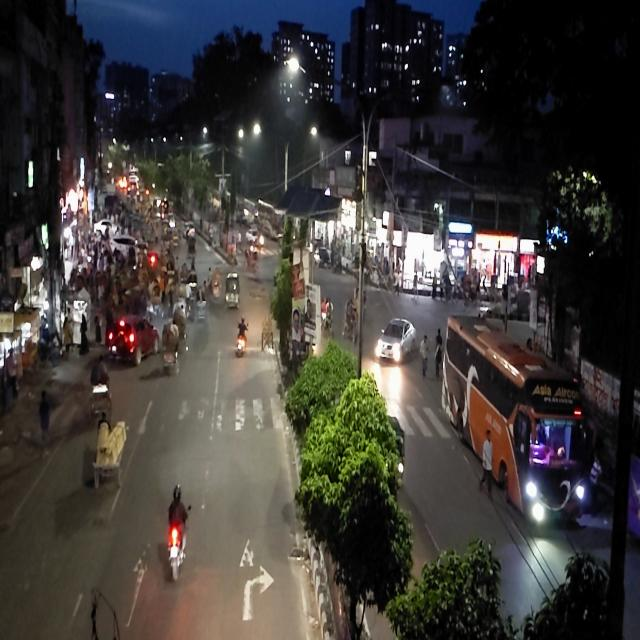red: (106, 314, 160, 366)
silver: (378, 318, 414, 371)
